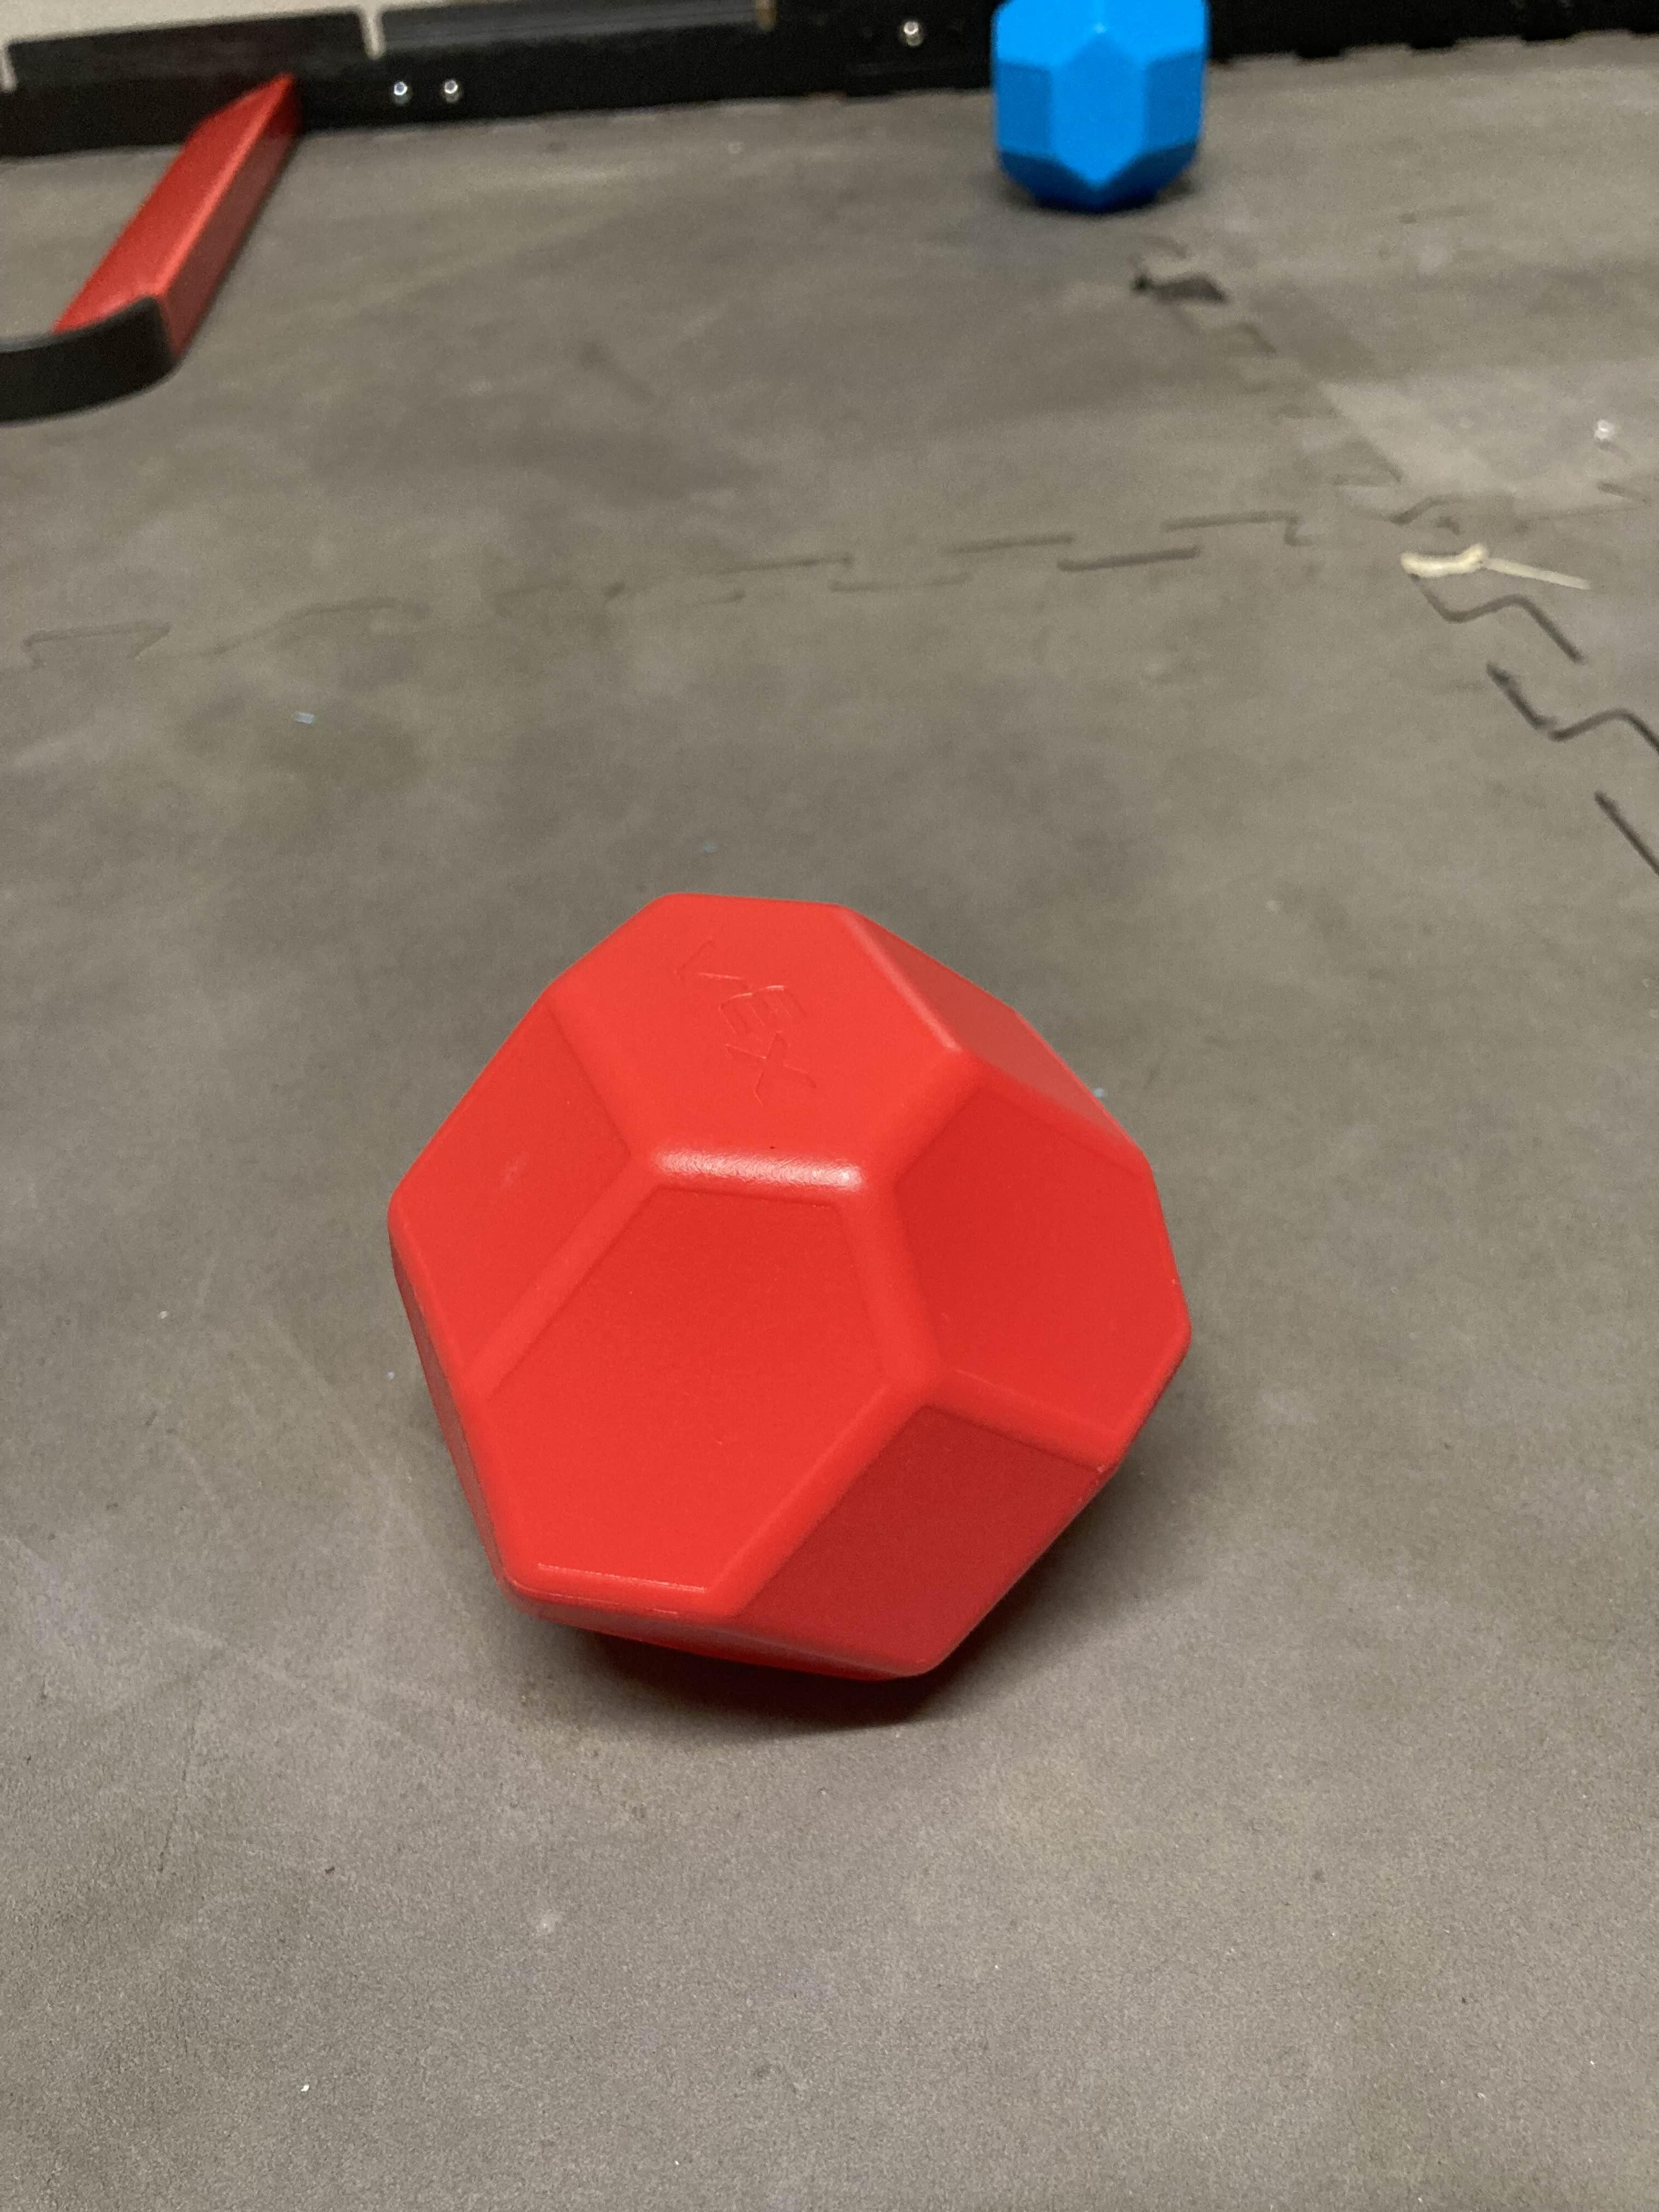Vex-Pieces-BLUE: (992, 0, 1209, 211)
Vex-Pieces-RED: (389, 895, 1190, 1677)
